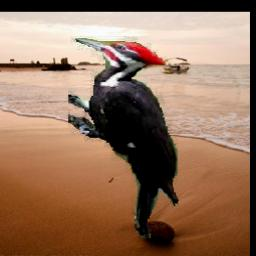Woodpecker: (68, 37, 179, 239)
